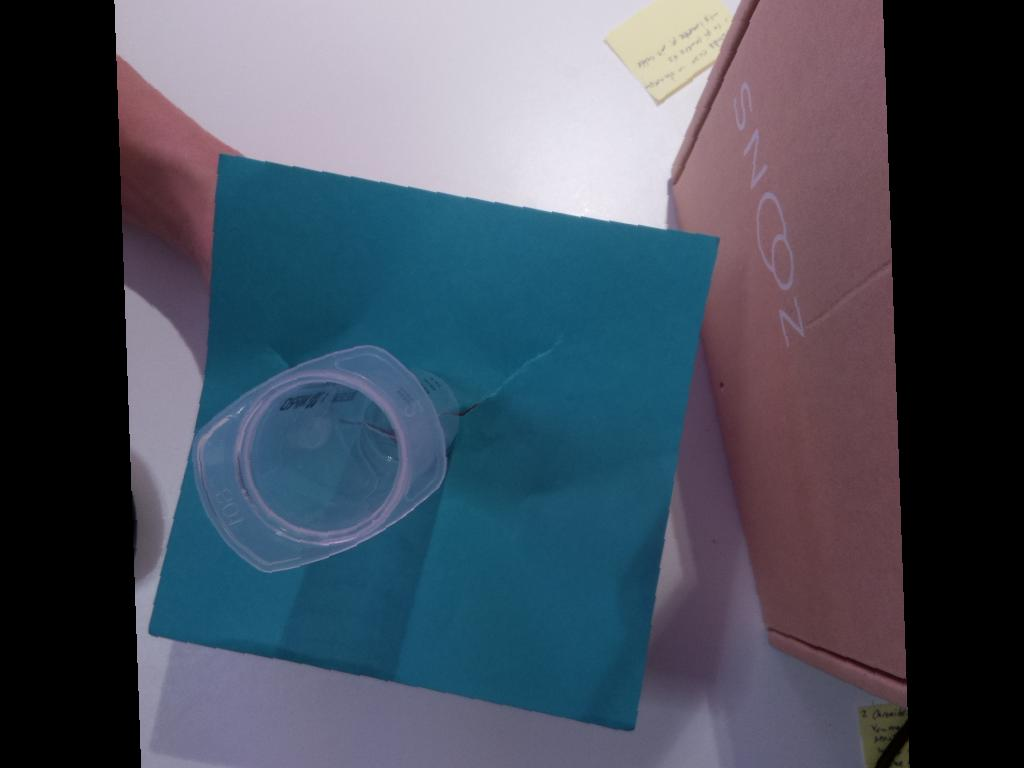clean: (190, 346, 450, 573)
